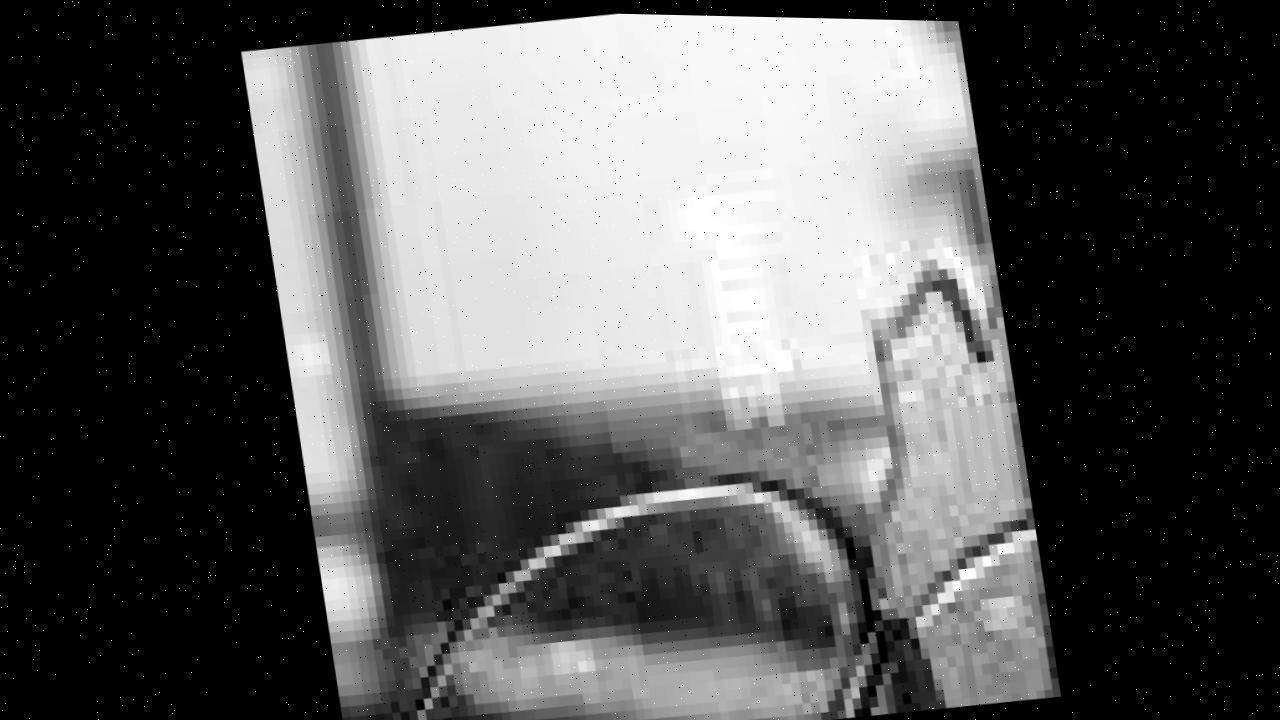Water Stains: (239, 4, 1025, 549)
